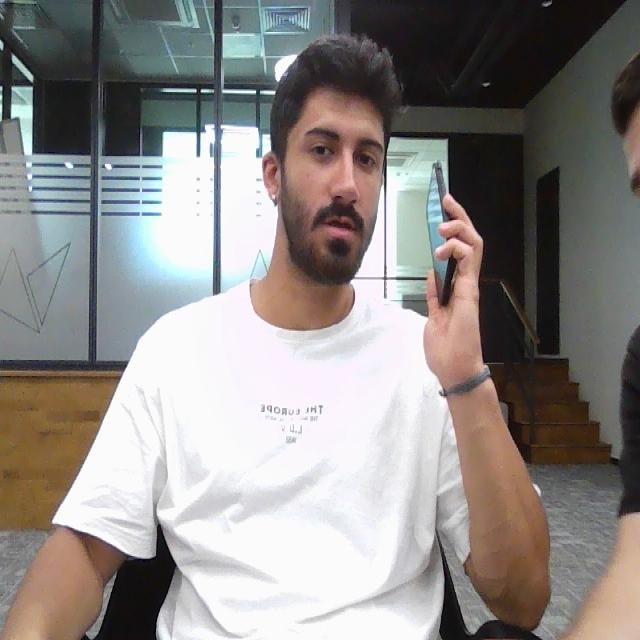phone: (424, 158, 459, 311)
